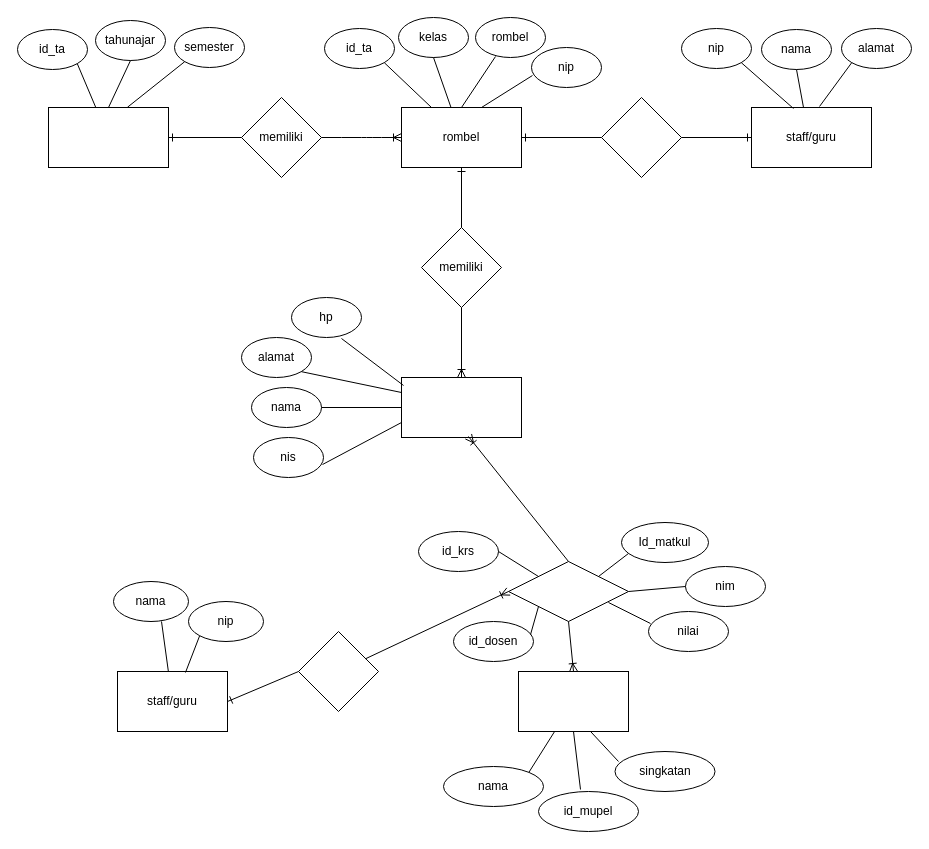
Image size: 929x849. Some labels were removed from this diagram. Each missing label, with the centre of its shape:
"ajar" goes at (338,671).
"guru kelas" goes at (641,137).
"krs" goes at (568,591).
"mupel" goes at (573,701).
"siswa" goes at (461,407).
"tahunAjaran" goes at (108,137).
